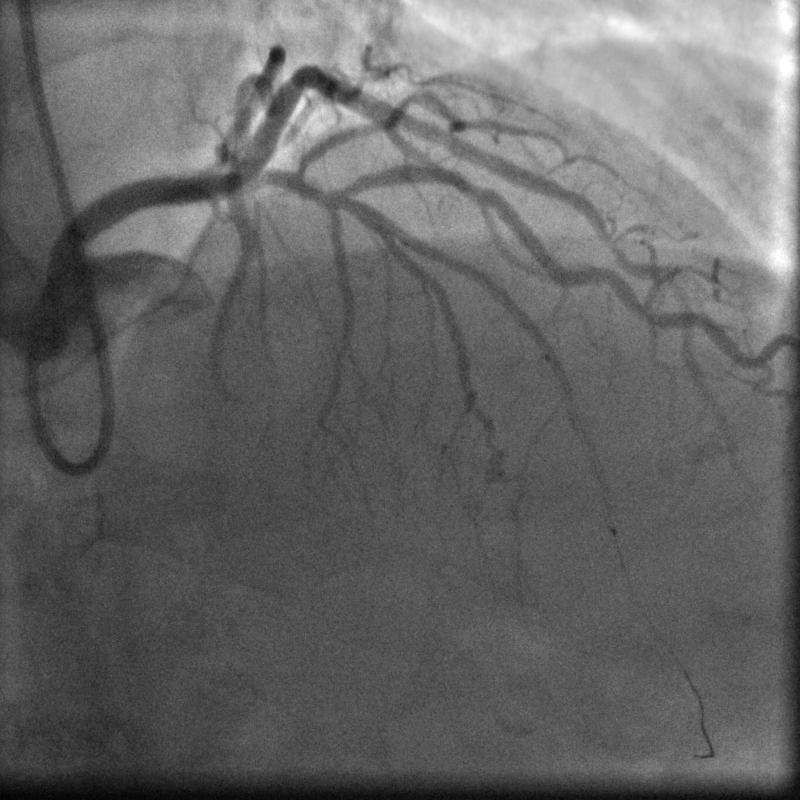Stenosis: (445, 163, 495, 207)
